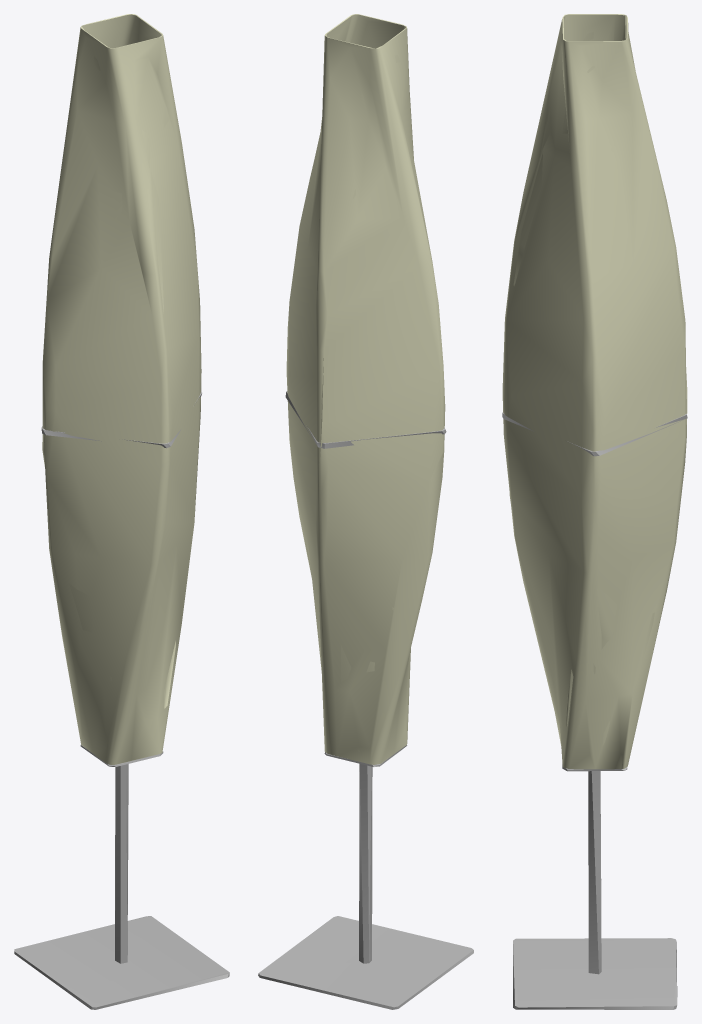
File: Lamp1.FBX
3 renders of one model, left to right at view 1: azimuth 30°, elevation 25°; view 2: azimuth 150°, elevation 25°; view 3: azimuth 270°, elevation 25°, orthographic.
Visible parts, largest first — view 1: lamp 1; view 2: lamp 1; view 3: lamp 1.
Part boxes in pixels (x1,y1,x2,y2): lamp 1: [14, 14, 229, 1009]; lamp 1: [258, 14, 473, 1009]; lamp 1: [502, 14, 687, 1009].
Bounding box in the file's own units: 12.44 × 12.42 × 70.04.
